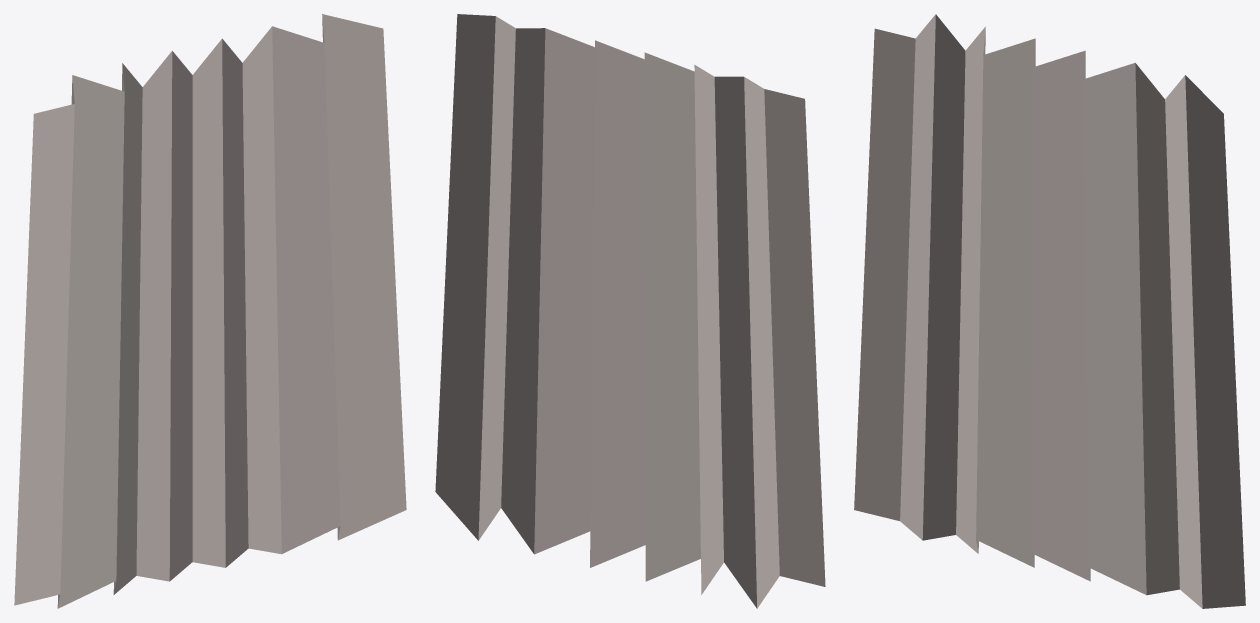
File: Curtain.fbx
3 renders of one model, left to right at view 1: azimuth 30°, elevation 25°; view 2: azimuth 150°, elevation 25°; view 3: azimuth 330°, elevation 25°, orthographic.
Parts seen in each view (by area): view 1: Curtain; view 2: Curtain; view 3: Curtain.
Part boxes in pixels (x1,y1,x2,y2): Curtain: (14, 14, 406, 608); Curtain: (435, 14, 825, 608); Curtain: (854, 14, 1245, 608).
Bounding box in the file's own units: 358 × 463 × 20.11.
